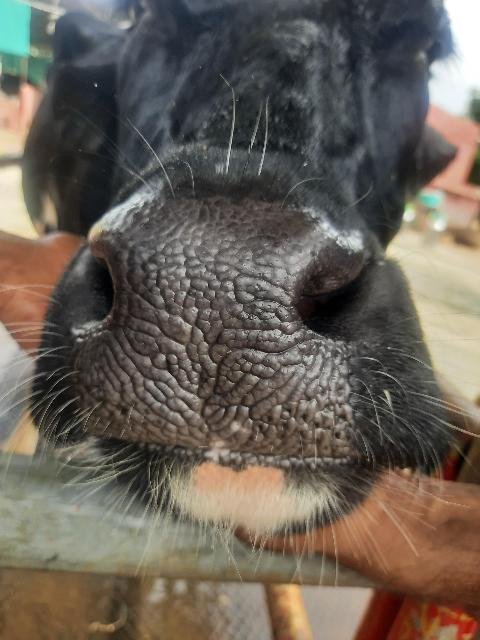Muzzle: (96, 218, 354, 470)
